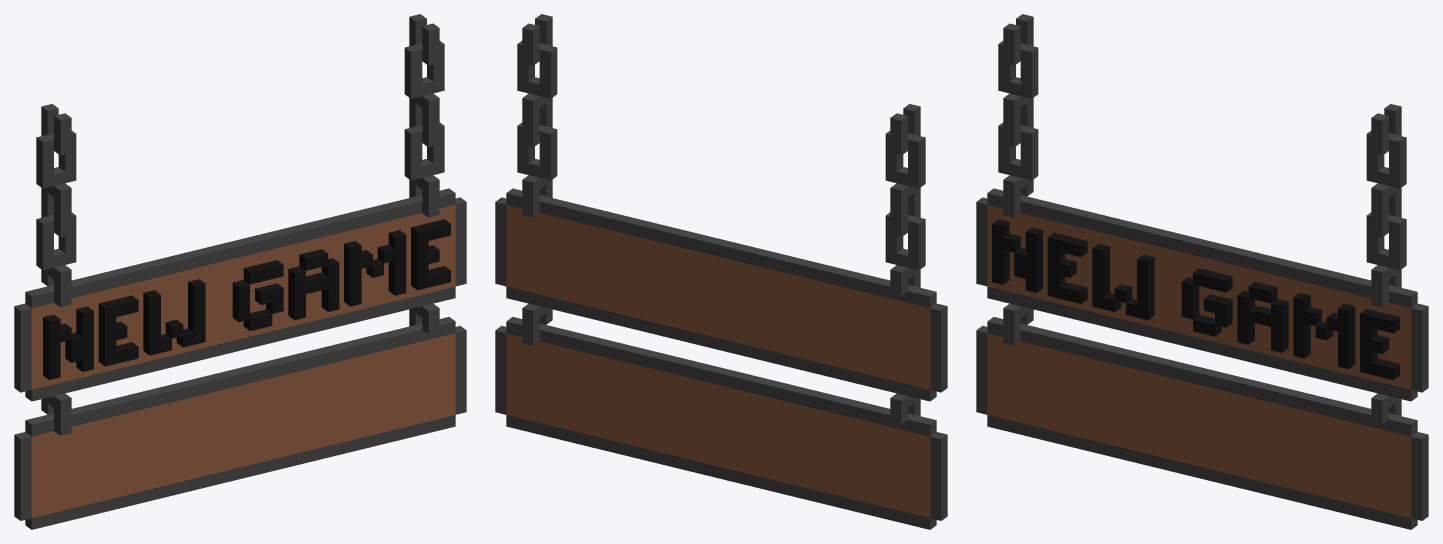
Rendered from sign.glb.
3 views of the same model, side by side, from view 1: azimuth 30°, elevation 25°; view 2: azimuth 150°, elevation 25°; view 3: azimuth 330°, elevation 25° (orthographic).
Parts seen in each view (by area): view 1: sign; view 2: sign; view 3: sign.
Boxes of the visible parts, x1,y1,x2,y2 form: sign: (14,14,466,529); sign: (495,14,947,529); sign: (976,14,1428,529).
Bounding box in the file's own units: 4 × 3.5 × 0.3.
1 material, 1 textured.
